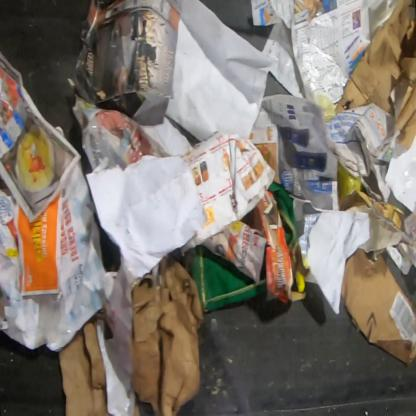cardboard: (334, 1, 416, 150), (133, 253, 204, 416), (342, 247, 415, 366), (60, 317, 108, 416), (131, 398, 141, 415)
rigid_plastic: (191, 309, 255, 416)
soft_plastic: (81, 121, 132, 173), (37, 293, 71, 346), (338, 162, 362, 201), (317, 94, 334, 124)
